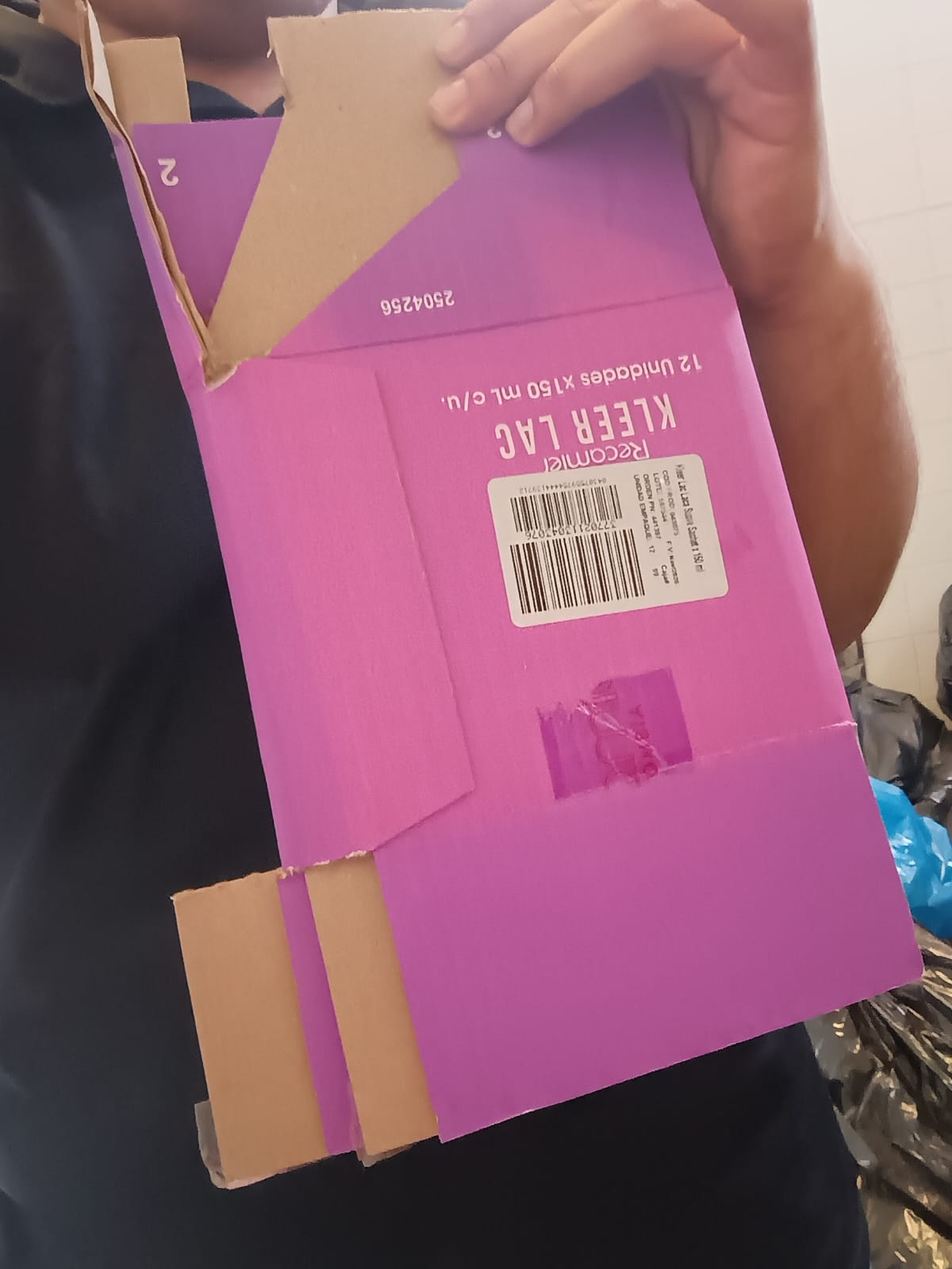Carton: (85, 120, 929, 1189)
